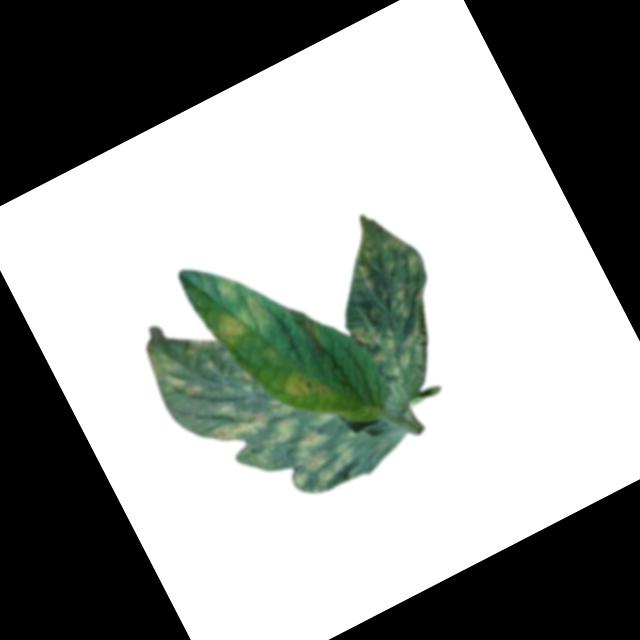Leaf_Mold: (142, 288, 367, 538), (300, 196, 473, 404), (273, 353, 334, 417), (212, 293, 276, 350), (209, 268, 243, 307)
